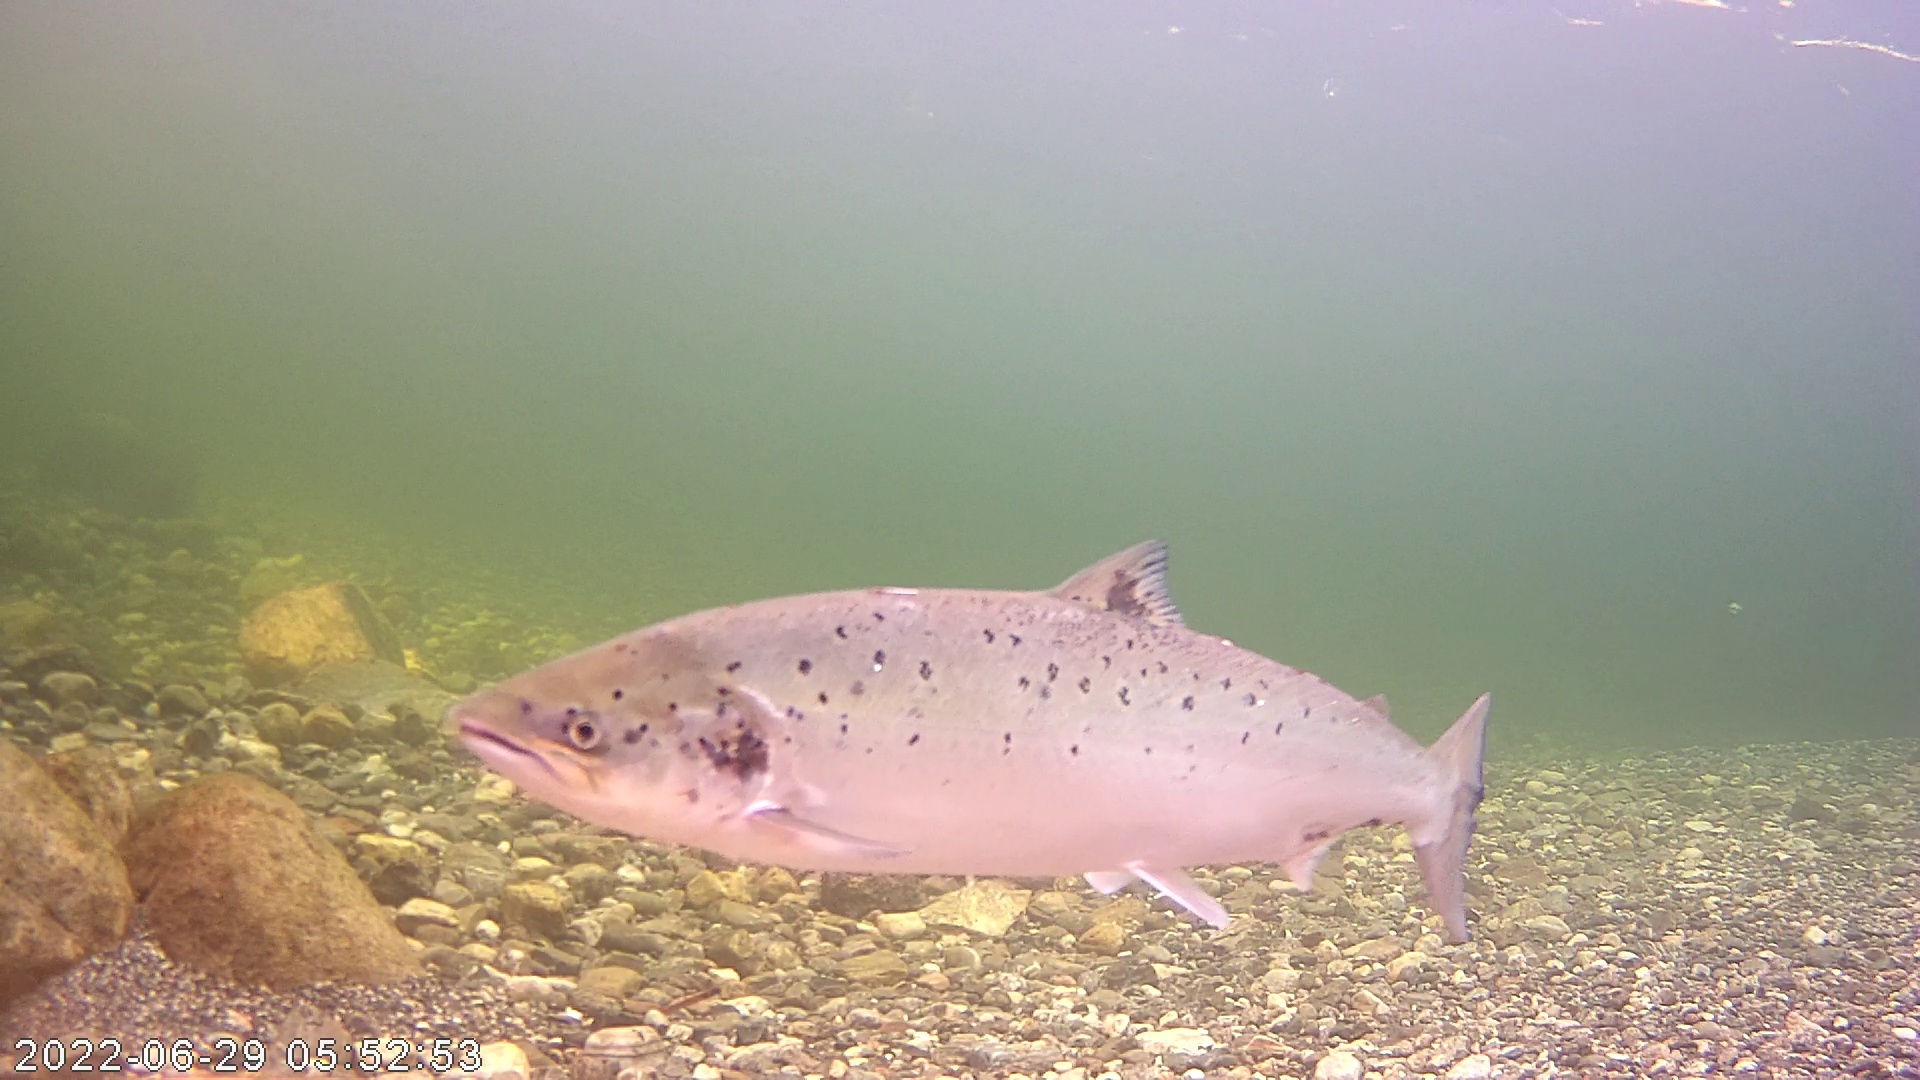salmon: (465, 446, 1494, 909)
